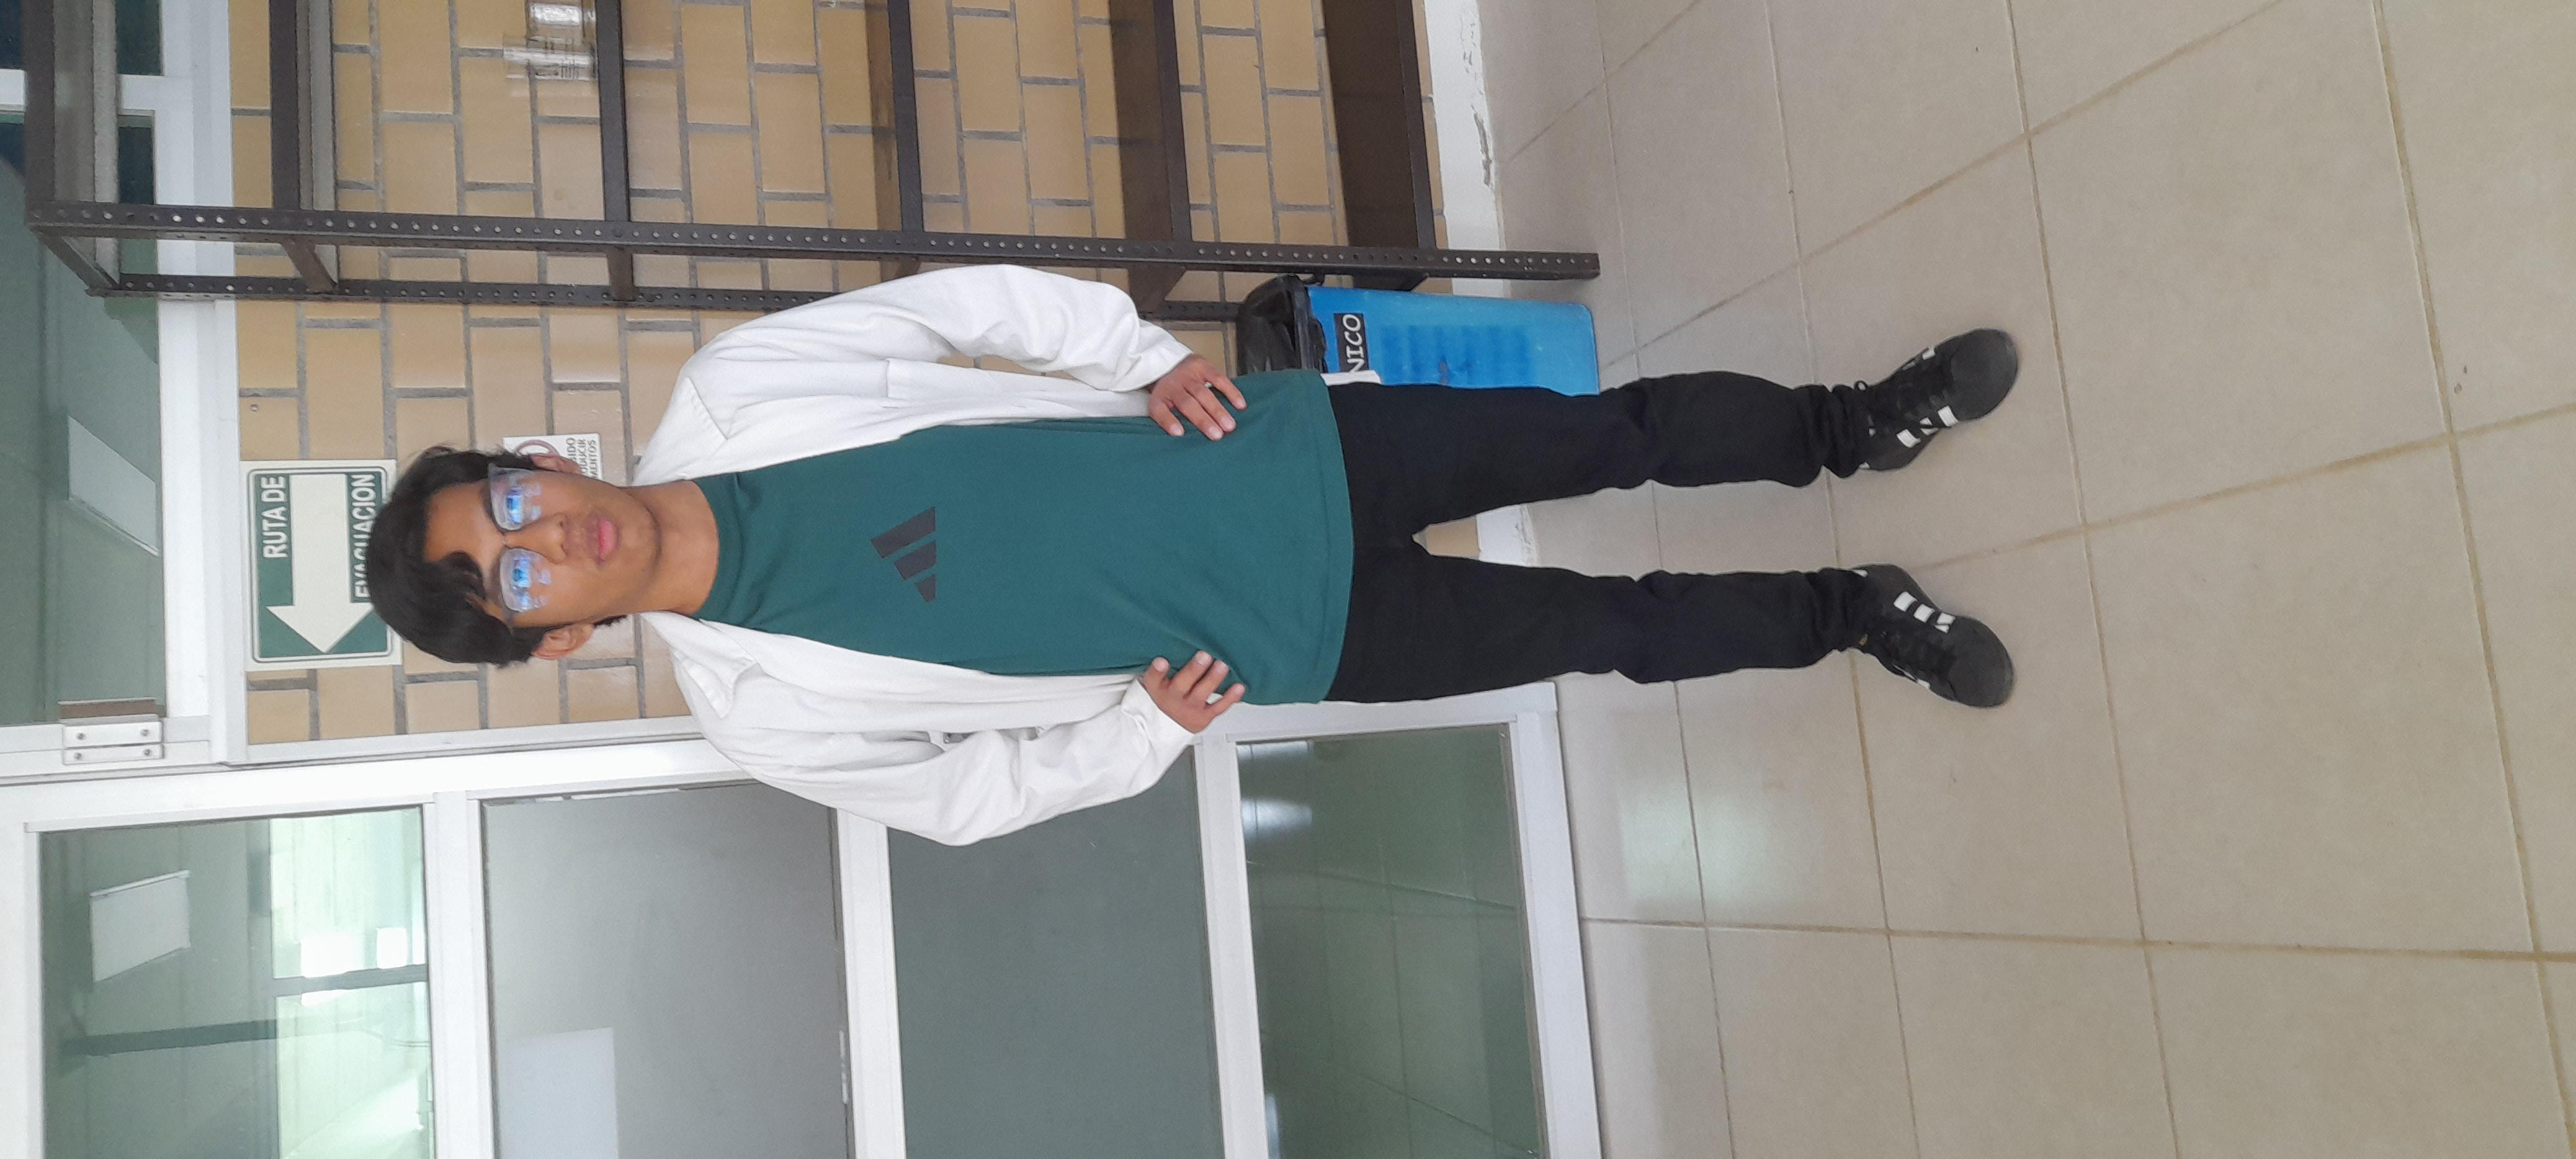Bata-Incorrecta: (586, 154, 2175, 942)
